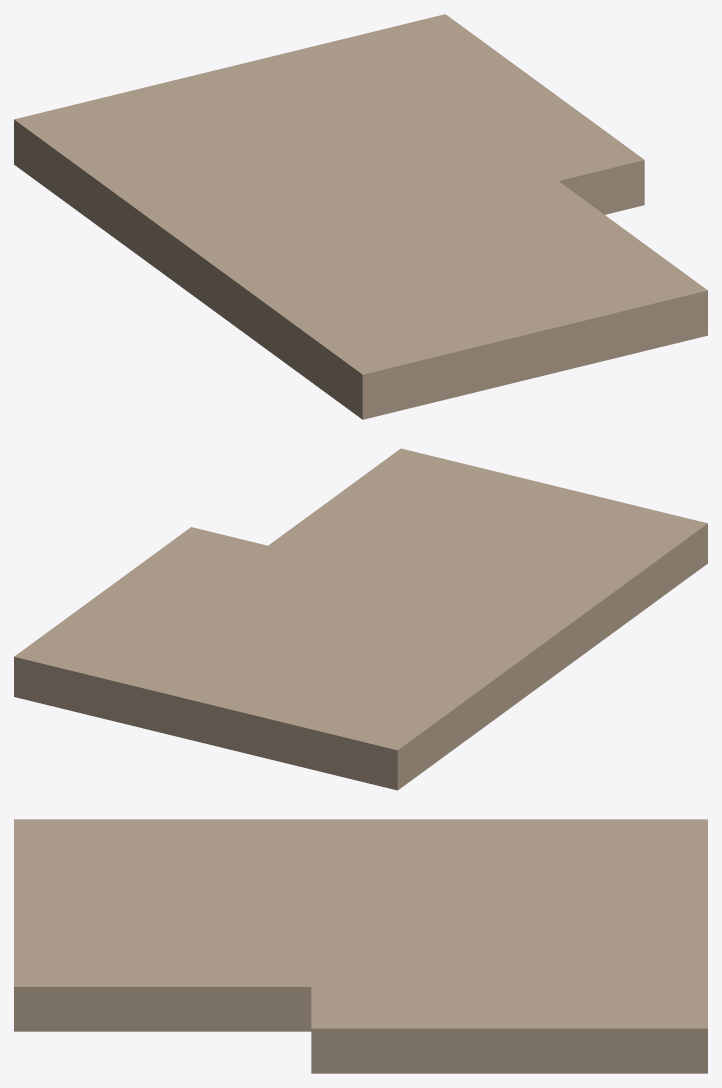
The model's file is path_corner.glb.
3 views of the same model, one above another, from view 1: azimuth 30°, elevation 25°; view 2: azimuth 150°, elevation 25°; view 3: azimuth 270°, elevation 25° (orthographic). The views are drawn at different scales.
Parts seen in each view (by area): view 1: Cube, Cube.001; view 2: Cube, Cube.001; view 3: Cube, Cube.001.
Boxes of the visible parts, x1,y1,x2,y2 form: Cube: [14, 35, 707, 419]; Cube.001: [187, 14, 644, 222]; Cube: [91, 448, 707, 790]; Cube.001: [14, 527, 393, 752]; Cube: [14, 819, 707, 1031]; Cube.001: [311, 909, 707, 1073].
Size of the model in its own units: 1 by 0.1 by 1.4.
